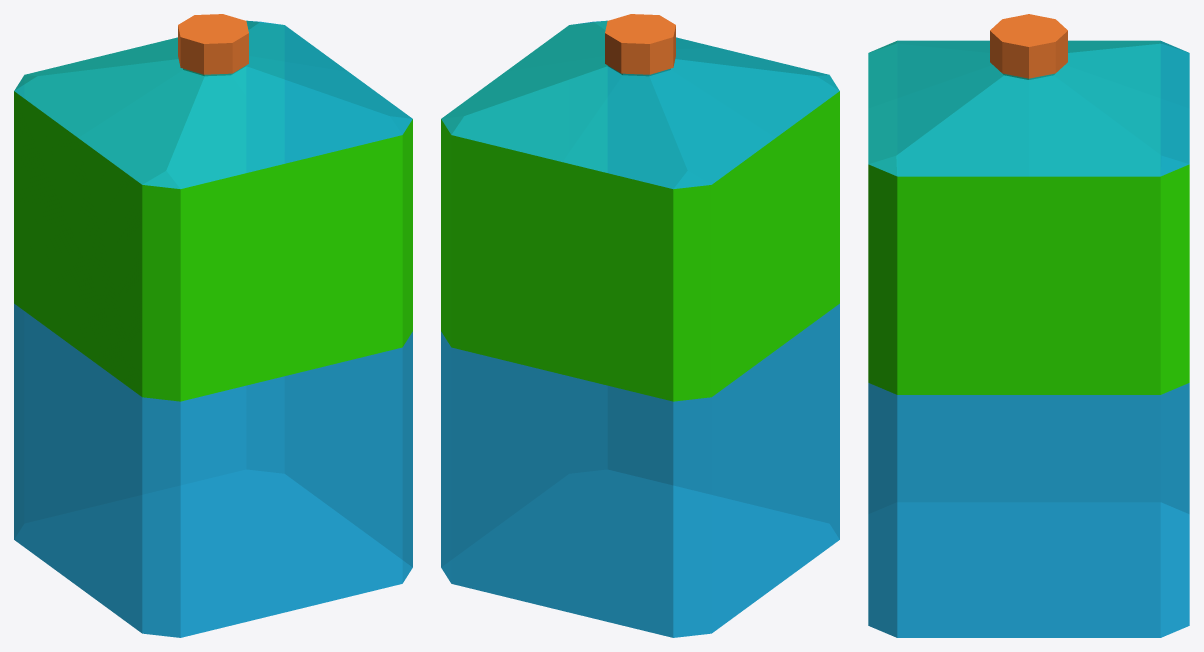
File: Bottle.fbx
The picture shows the model from 3 angles, left to right: view 1: azimuth 30°, elevation 25°; view 2: azimuth 150°, elevation 25°; view 3: azimuth 270°, elevation 25°; orthographic projection. The views are drawn at different scales.
Parts seen in each view (by area): view 1: Bottle; view 2: Bottle; view 3: Bottle.
Part boxes in pixels (box(x1,y1,x2,y2)): Bottle: box(14, 14, 412, 637); Bottle: box(441, 14, 839, 637); Bottle: box(868, 14, 1189, 637).
Size of the model in its own units: 40 by 74.1 by 40.
